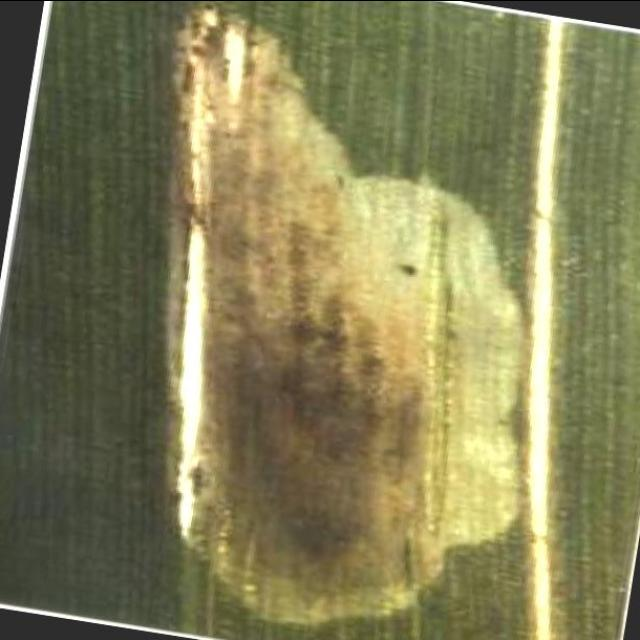ricebug: (183, 31, 520, 621)
